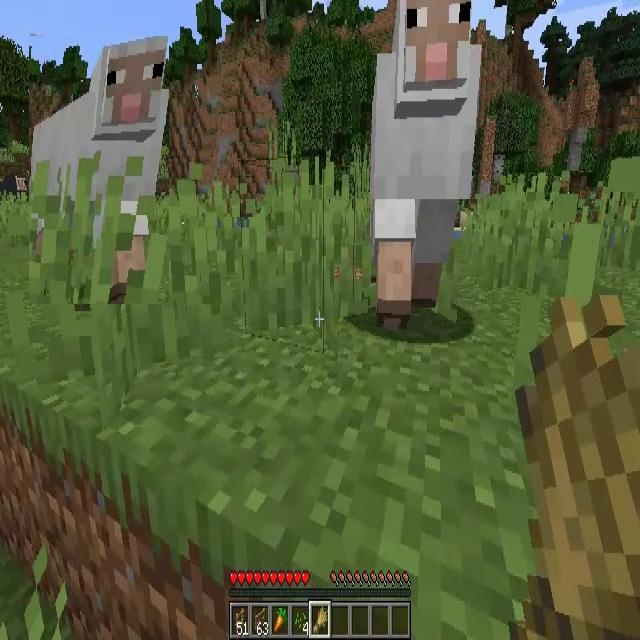sheep: (29, 36, 169, 304), (376, 0, 482, 326)
